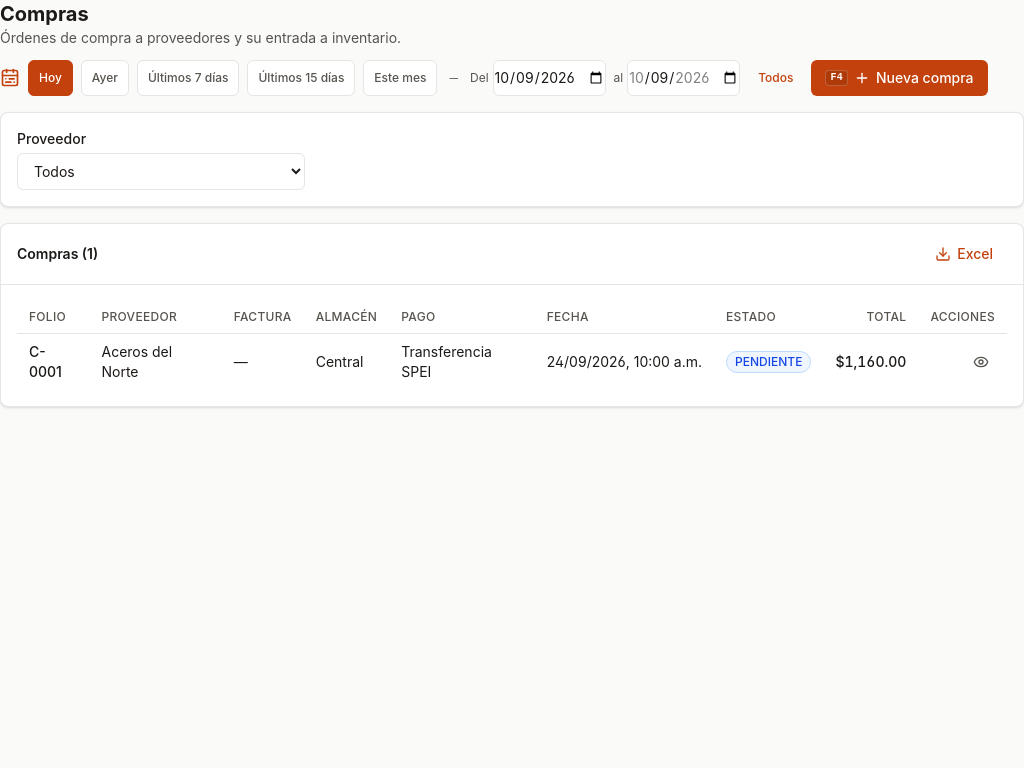
Test: ComprasPage (profundización) › muestra Sin coincidencias cuando la búsqueda no trae nada
This screenshot has width=1024, height=768.
Click the button "F4 Nueva compra" at (900, 78), box [812, 60, 988, 96]
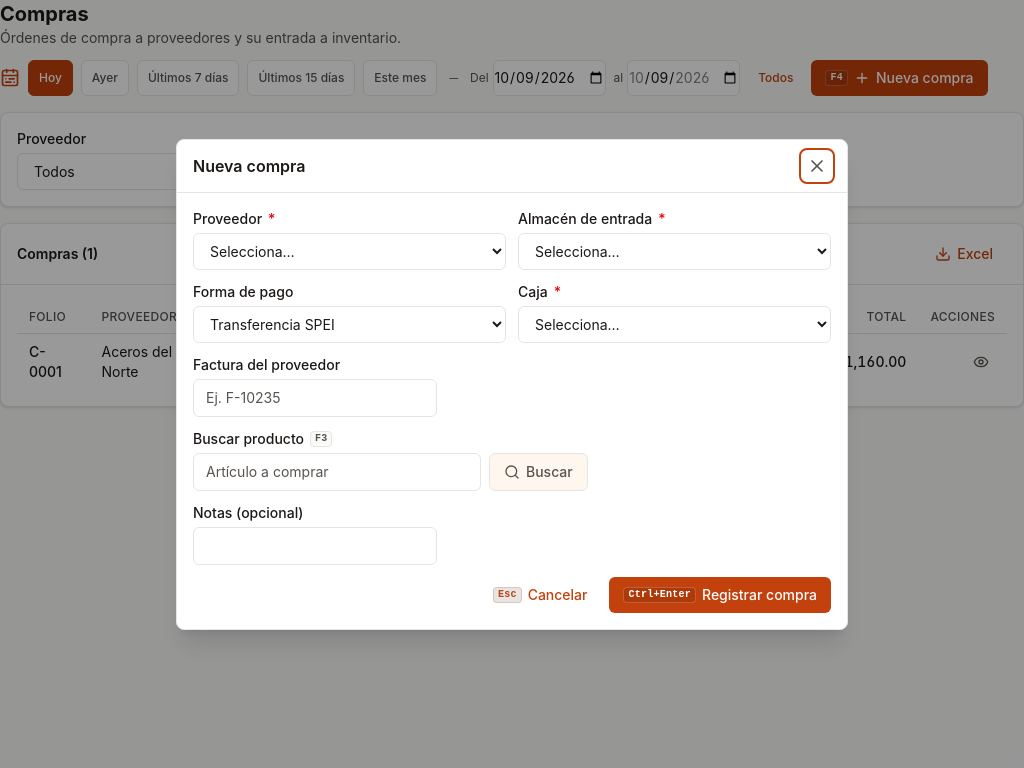
Type "Inexistente" into the field labelled "Buscar producto F3" at (337, 472), box [193, 452, 481, 490]
Then press Enter
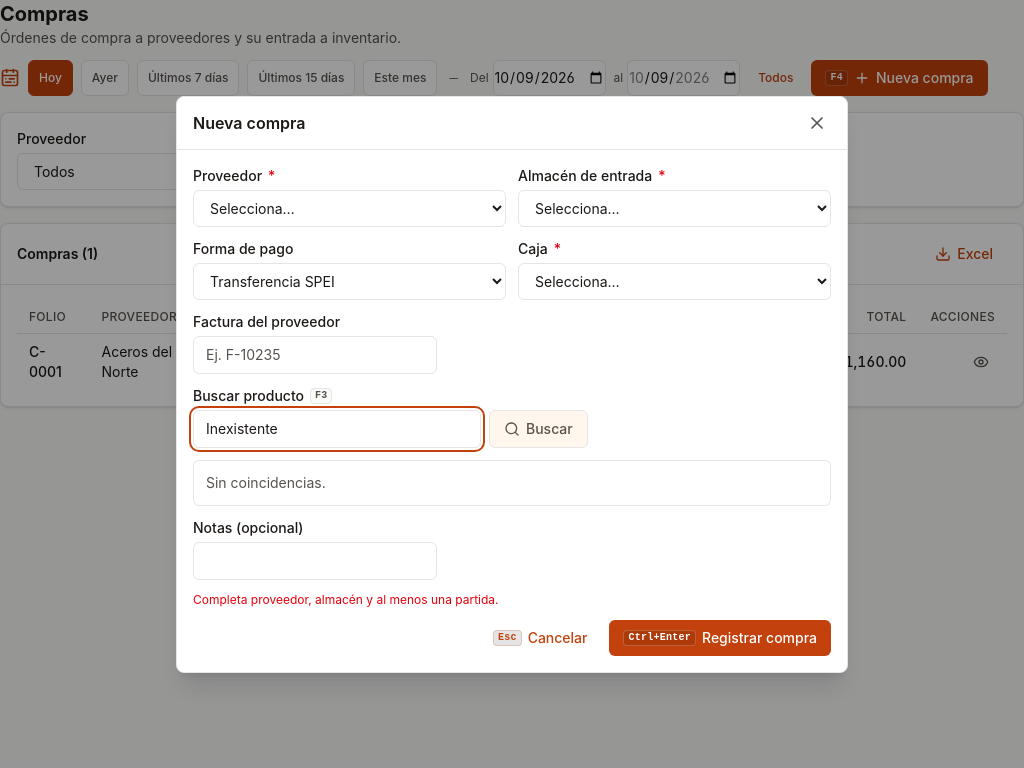
expect the text "Sin coincidencias." is shown: met, box [206, 474, 326, 490]
